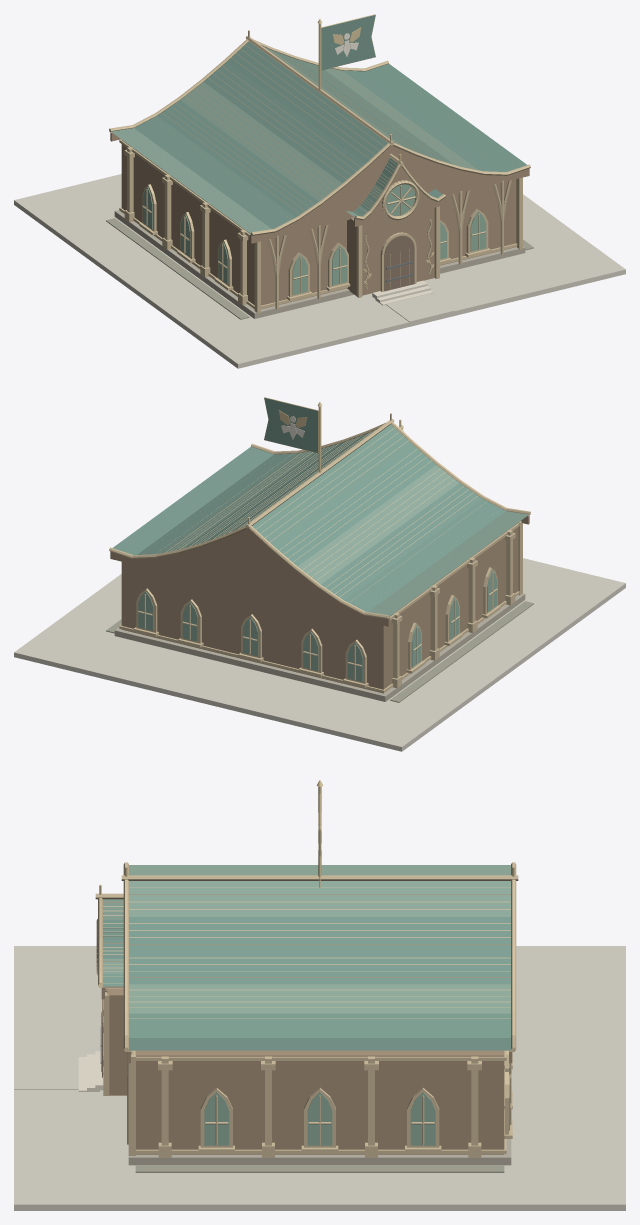
File: SpiritAcademy_Lv1.fbx
The picture shows the model from 3 angles, top to bottom: view 1: azimuth 30°, elevation 25°; view 2: azimuth 150°, elevation 25°; view 3: azimuth 270°, elevation 25°; orthographic projection. The views are drawn at different scales.
Visible parts, largest first — view 1: Fixed 26m plot.015, Roof surfaces.016, Main school walls.015, Roof surfaces.015, Gable infill.010, Roof courses.010, Projecting entrance bay.015, Gable verge.010, School foundation.015, Window glass.015, Window frame.015, School icon flag cloth.015 (+15 smaller); view 2: Fixed 26m plot.015, Roof surfaces.016, Main school walls.015, Roof surfaces.015, Gable infill.010, Roof courses.010, School foundation.015, Window glass.015, Window frame.015, Gable verge.010, School icon flag cloth.015, Decor side pilasters.015 (+5 smaller); view 3: Fixed 26m plot.015, Roof surfaces.016, Roof surfaces.015, Main school walls.015, Roof courses.010, School foundation.015, Window glass.015, Stone stringcourse.015, Grass edging.015, Gable verge.010, Roof ridge.010, Decor side pilasters.015 (+8 smaller).
Boxes of the visible parts, box(x1,y1,x2,y2) form: Fixed 26m plot.015: box(14, 174, 625, 368); Roof surfaces.016: box(134, 41, 526, 228); Main school walls.015: box(121, 140, 516, 309); Roof surfaces.015: box(111, 46, 478, 233); Gable infill.010: box(110, 132, 529, 243); Roof courses.010: box(154, 45, 483, 218); Projecting entrance bay.015: box(347, 207, 434, 295); Gable verge.010: box(109, 39, 530, 235); School foundation.015: box(114, 210, 525, 318); Window glass.015: box(143, 187, 486, 294); Window frame.015: box(142, 184, 488, 297); School icon flag cloth.015: box(322, 15, 375, 69); Fixed 26m plot.015: box(14, 558, 625, 751); Roof surfaces.016: box(113, 424, 505, 611); Main school walls.015: box(121, 523, 518, 693); Roof surfaces.015: box(161, 429, 528, 616); Gable infill.010: box(110, 515, 529, 626); Roof courses.010: box(156, 428, 485, 601); School foundation.015: box(114, 593, 525, 701); Window glass.015: box(138, 570, 496, 681); Window frame.015: box(136, 567, 497, 683); Gable verge.010: box(109, 422, 530, 618); School icon flag cloth.015: box(264, 398, 317, 452); Decor side pilasters.015: box(393, 530, 512, 678); Fixed 26m plot.015: box(14, 946, 625, 1210); Roof surfaces.016: box(103, 917, 511, 1050); Roof surfaces.015: box(103, 865, 510, 1013); Main school walls.015: box(135, 1050, 504, 1154); Roof courses.010: box(101, 887, 510, 1018); School foundation.015: box(128, 1139, 511, 1165); Window glass.015: box(204, 1063, 509, 1145); Stone stringcourse.015: box(133, 1050, 506, 1153); Grass edging.015: box(135, 1165, 504, 1172); Gable verge.010: box(98, 862, 516, 1051); Roof ridge.010: box(95, 875, 518, 899); Decor side pilasters.015: box(161, 1056, 478, 1145).
Bounding box in the file's own units: 26 × 14.12 × 26.
